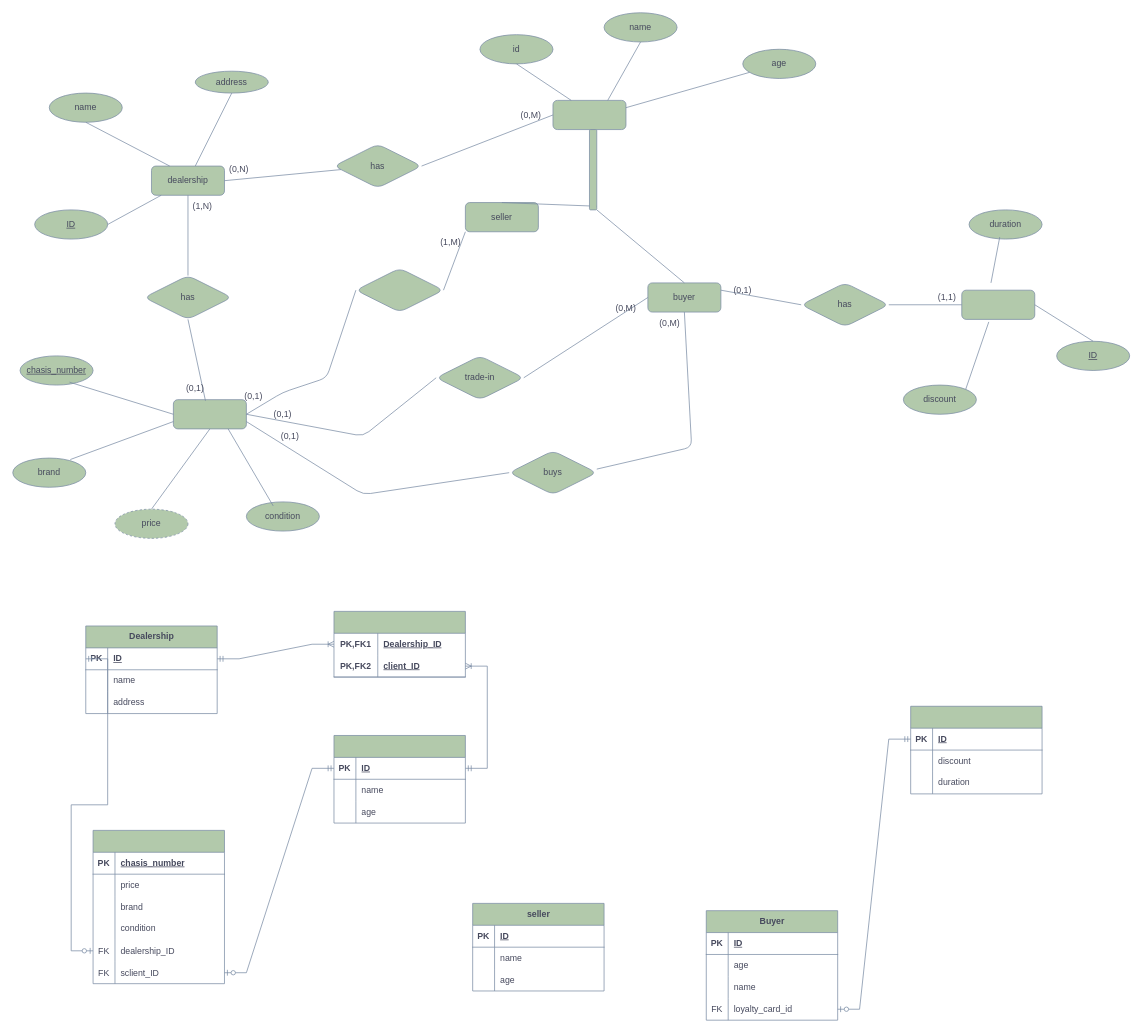
This 1142x1033 diagram has some shape labels left out. Here are the shapes that lost their labels. From the top down, the box of each, then its label:
(552, 100, 626, 130): clients
(355, 268, 443, 312): sells
(961, 289, 1035, 319): loyalty cards
(173, 399, 246, 429): cars
(333, 611, 465, 677): Table
(910, 706, 1042, 794): loyalty_card
(333, 735, 465, 823): client
(92, 830, 224, 984): car
